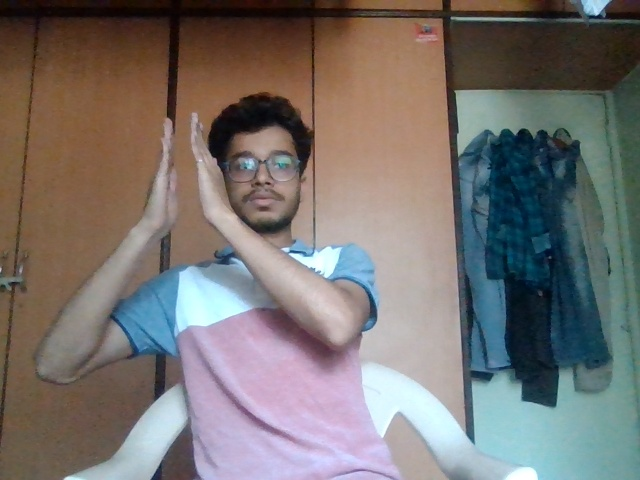morning: (128, 105, 248, 232)
